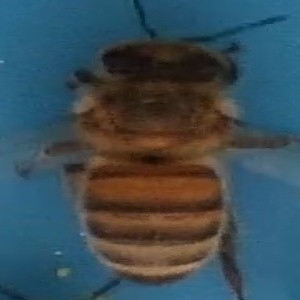bee: (28, 1, 293, 289)
